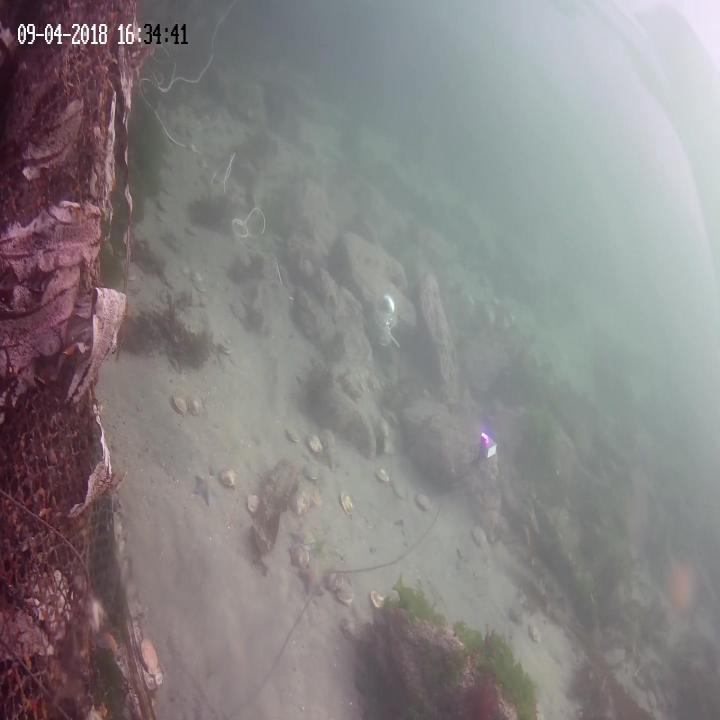scallop: (136, 630, 160, 680), (288, 489, 310, 521), (337, 490, 358, 522), (244, 491, 263, 520), (413, 487, 432, 514), (368, 590, 389, 614), (324, 568, 342, 596), (472, 522, 489, 551), (228, 300, 248, 324), (190, 267, 207, 295), (337, 580, 355, 606), (373, 462, 392, 486), (281, 422, 300, 446), (341, 614, 360, 636), (186, 392, 201, 419), (172, 392, 190, 414), (219, 468, 235, 491), (306, 434, 322, 456), (509, 603, 523, 626)
starfish: (661, 554, 704, 624), (299, 560, 325, 598), (96, 627, 119, 666), (191, 475, 218, 507), (322, 439, 342, 473), (290, 519, 310, 547)
